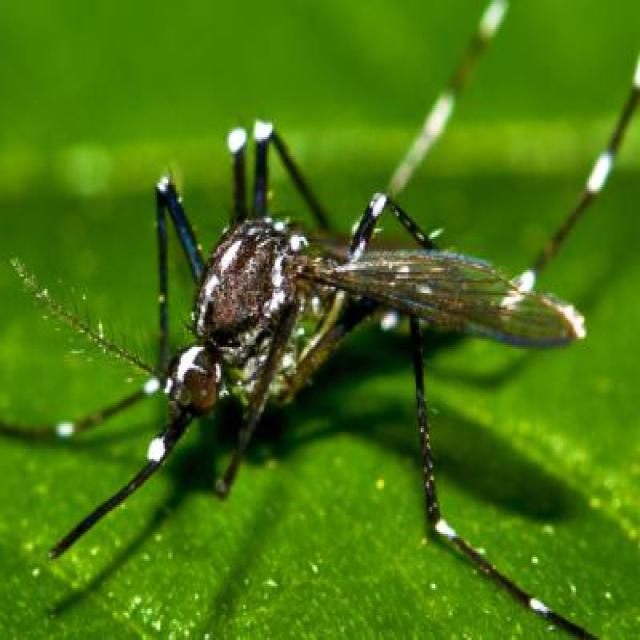antennae: (11, 248, 178, 394)
body: (172, 218, 444, 416)
insect: (9, 6, 640, 640)
legs: (343, 10, 636, 270), (396, 324, 627, 640), (138, 98, 276, 274)
mouthpart: (43, 394, 205, 567)
wings: (316, 245, 582, 355)
